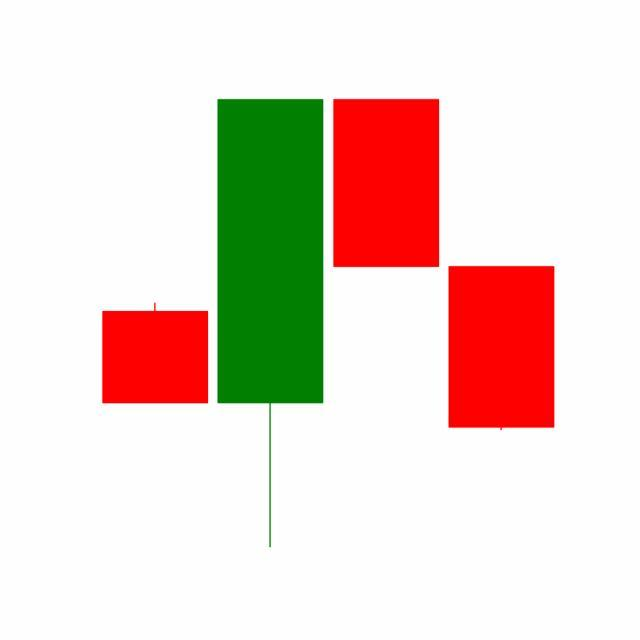Marubozu: (444, 264, 560, 432)
